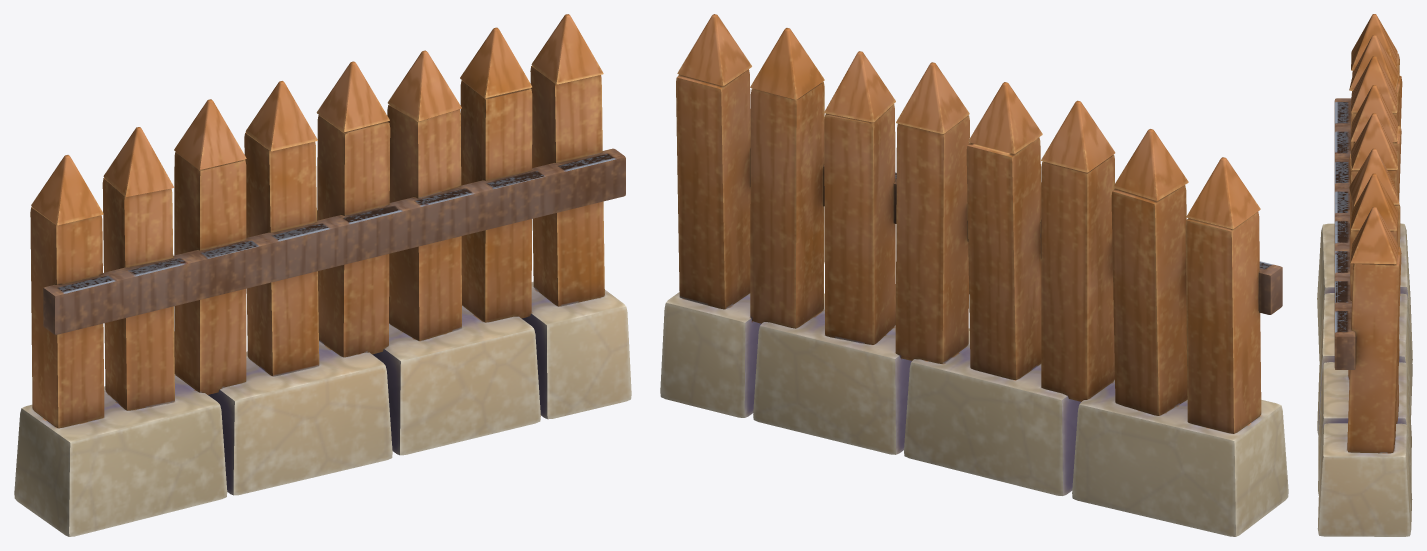
File: Palissade.fbx
The picture shows the model from 3 angles, left to right: view 1: azimuth 30°, elevation 25°; view 2: azimuth 150°, elevation 25°; view 3: azimuth 270°, elevation 25°; orthographic projection. The views are drawn at different scales.
Parts seen in each view (by area): view 1: Palissade; view 2: Palissade; view 3: Palissade.
Part boxes in pixels (bbox=[...]): Palissade: bbox=[14, 14, 631, 536]; Palissade: bbox=[660, 14, 1288, 536]; Palissade: bbox=[1317, 14, 1412, 536].
Size of the model in its own units: 1200 by 753 by 203.
Materials: 1 (1 with a texture image).
